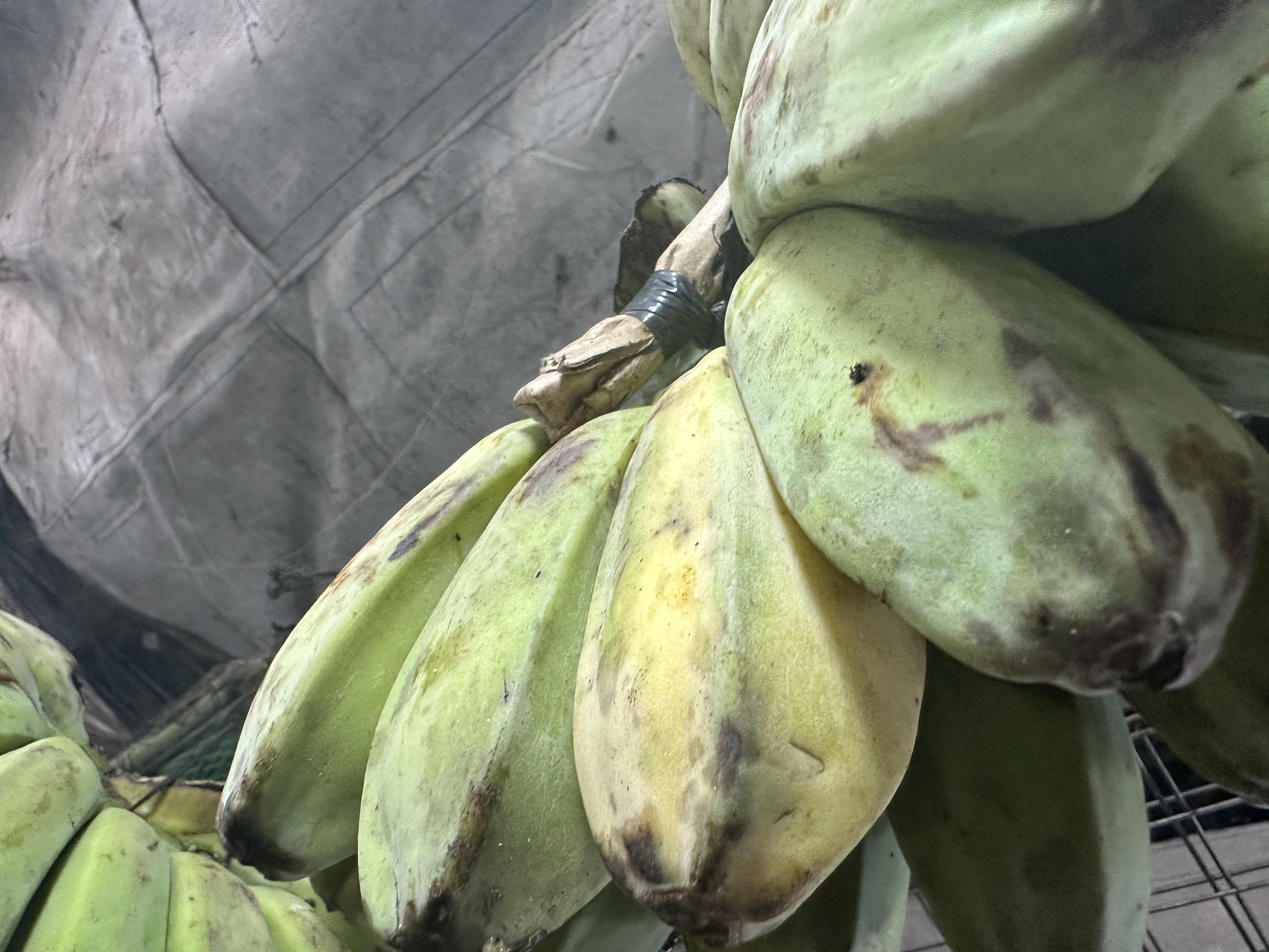underripe: (217, 0, 1269, 952), (0, 608, 400, 952)
